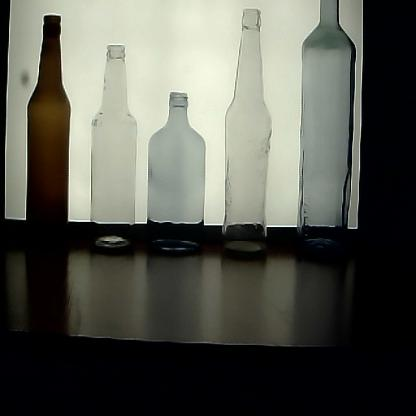Can: (292, 1, 360, 268), (218, 7, 276, 263), (21, 13, 73, 270), (86, 42, 139, 262), (146, 91, 208, 258)
